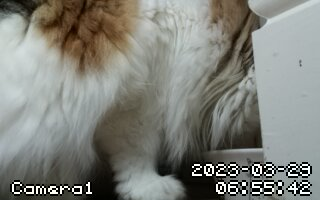clara: (11, 5, 262, 192)
